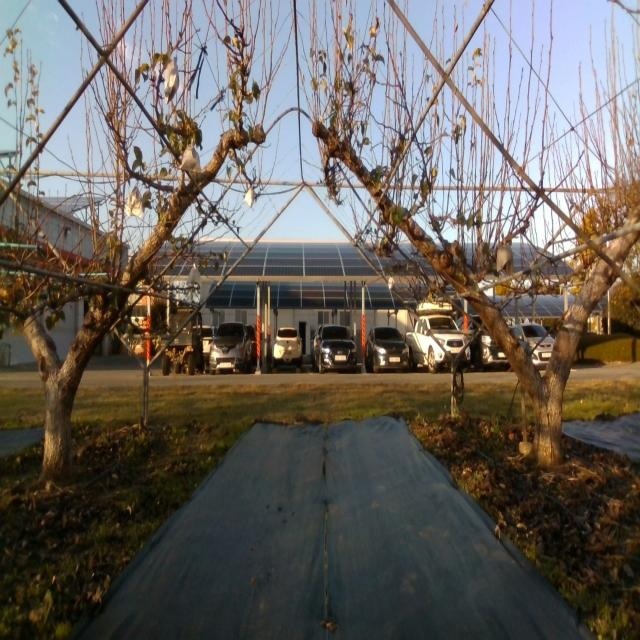pearbags: (164, 61, 179, 105), (180, 146, 202, 174), (496, 244, 514, 276), (126, 187, 142, 215), (188, 267, 202, 287), (243, 187, 254, 207)
